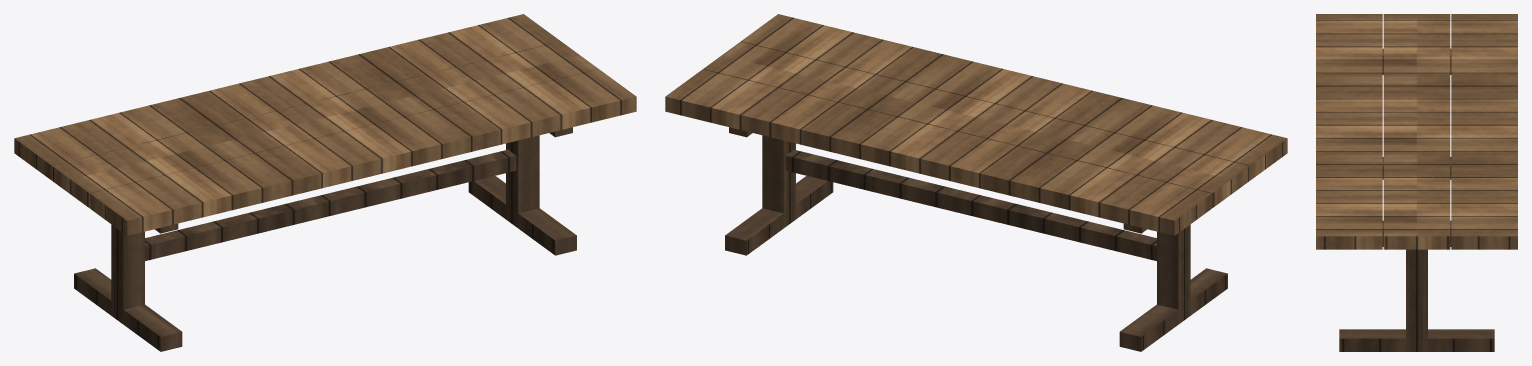
The model's file is Table_Large_LOD1.gltf.
3 views of the same model, side by side, from view 1: azimuth 30°, elevation 25°; view 2: azimuth 150°, elevation 25°; view 3: azimuth 270°, elevation 25° (orthographic). The views are drawn at different scales.
Parts seen in each view (by area): view 1: Table_Large_LOD1; view 2: Table_Large_LOD1; view 3: Table_Large_LOD1.
Boxes of the visible parts, <box> form: Table_Large_LOD1: <box>14,14,636,351</box>; Table_Large_LOD1: <box>665,14,1287,351</box>; Table_Large_LOD1: <box>1316,14,1517,351</box>.
Size of the model in its own units: 2.84 by 0.81 by 1.09.
2 materials, 2 textured.
